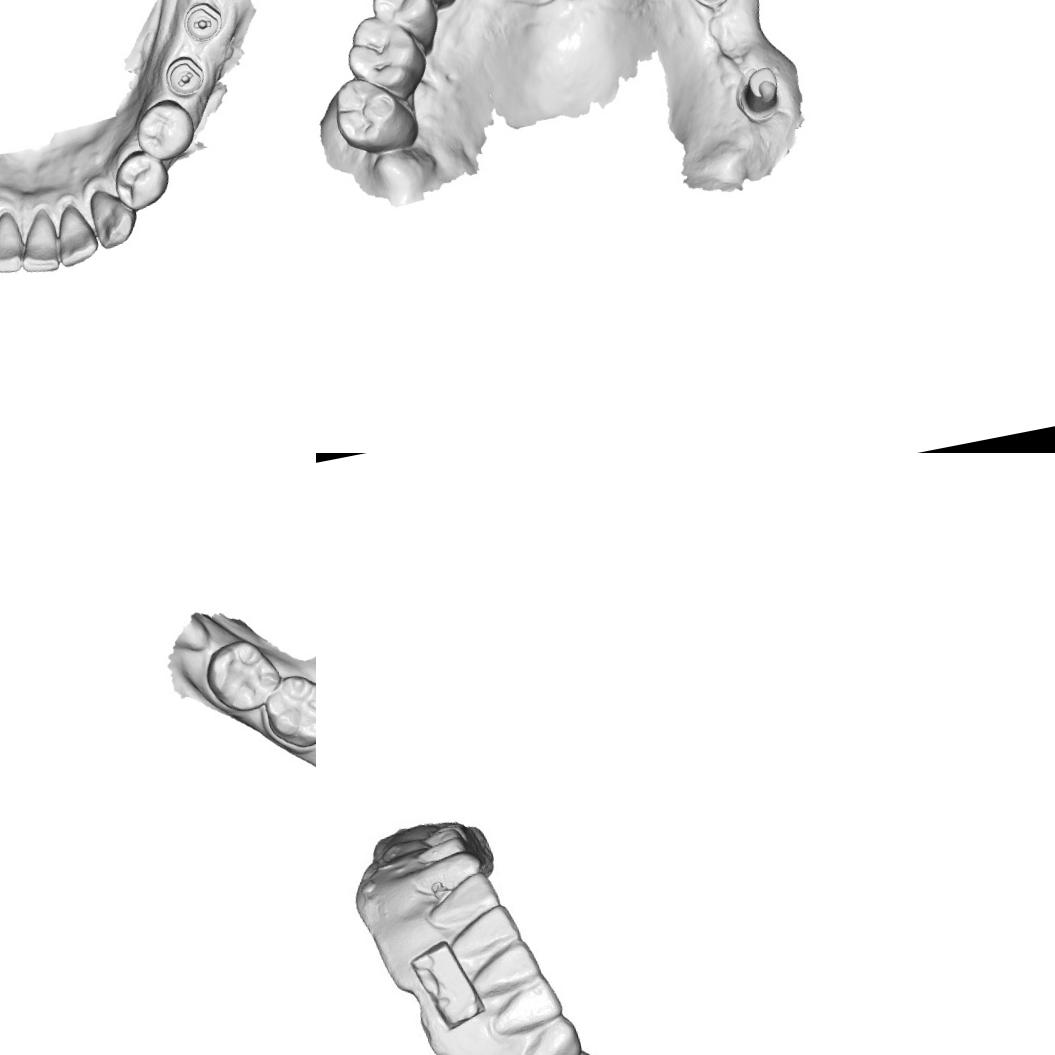abutment: (734, 62, 785, 119), (681, 0, 737, 13)
canine: (406, 852, 490, 899), (85, 182, 142, 250), (512, 1019, 588, 1055)
implant_minus: (159, 51, 210, 102), (176, 0, 226, 46)
incisor: (444, 902, 530, 968), (426, 870, 509, 934), (484, 980, 572, 1038), (464, 946, 548, 1000), (10, 203, 64, 276), (49, 198, 103, 270), (0, 206, 28, 276)
molar: (338, 7, 431, 106), (326, 68, 418, 160), (198, 631, 288, 718), (257, 666, 316, 754)
premolar: (130, 92, 199, 164), (106, 143, 174, 214), (366, 0, 440, 40)
